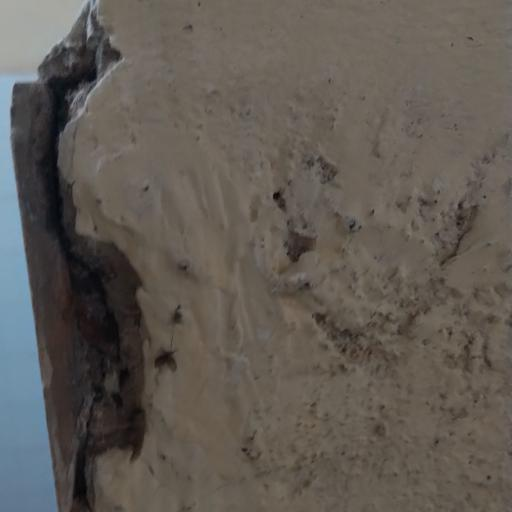spalling: (11, 0, 178, 512)
